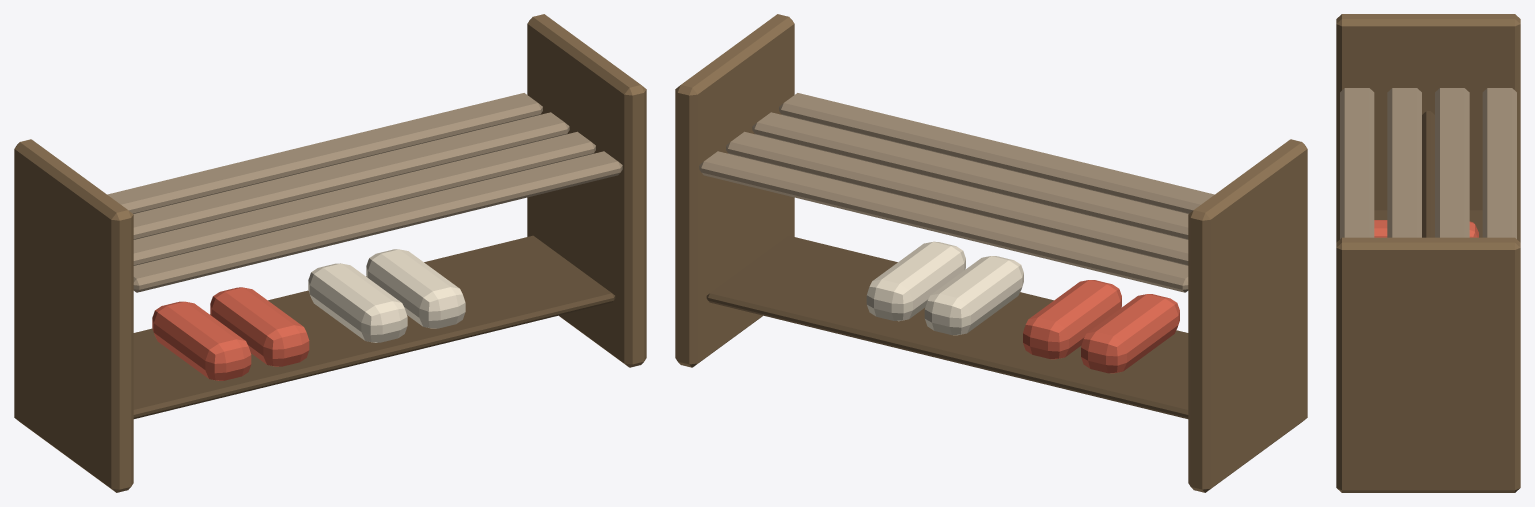
File: bench.glb
3 renders of one model, left to right at view 1: azimuth 30°, elevation 25°; view 2: azimuth 150°, elevation 25°; view 3: azimuth 270°, elevation 25°, orthographic. The views are drawn at different scales.
Visible parts, largest first — view 1: bench_Body; view 2: bench_Body; view 3: bench_Body.
Part boxes in pixels (box(x1,y1,x2,y2)): bench_Body: box(14, 14, 646, 492); bench_Body: box(675, 14, 1307, 492); bench_Body: box(1336, 14, 1520, 492).
Bounding box in the file's own units: 1.2 × 0.6 × 0.4.
